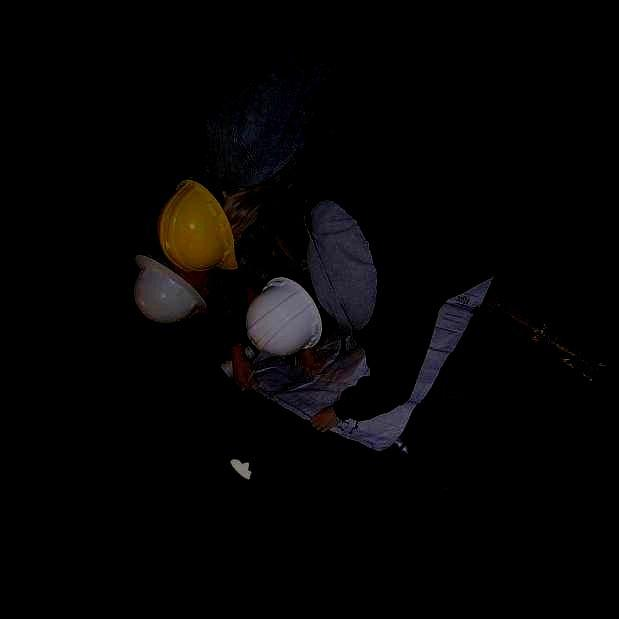helmet: (157, 177, 259, 270), (245, 276, 323, 358), (133, 248, 207, 326)
